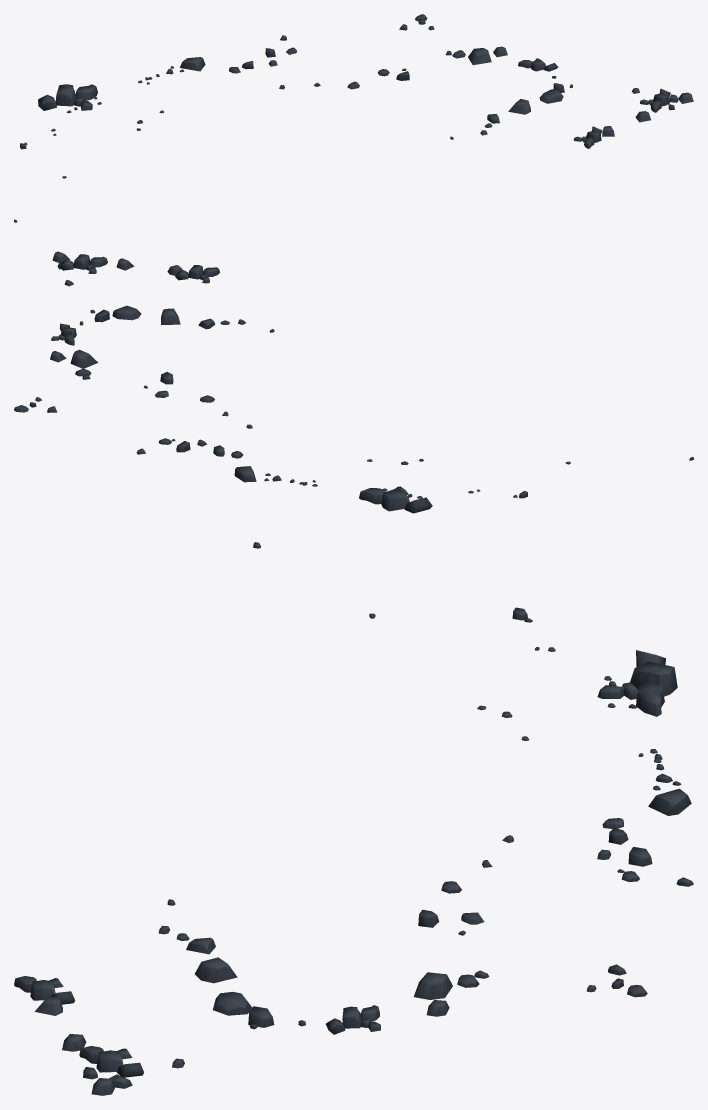
File: shitou01.fbx
3 renders of one model, top to bottom at view 1: azimuth 30°, elevation 25°; view 2: azimuth 150°, elevation 25°; view 3: azimuth 270°, elevation 25°, orthographic. The views are drawn at different scales.
Parts seen in each view (by area): view 1: shitou01; view 2: shitou01; view 3: shitou01.
Part boxes in pixels (left/top/right/bottom): shitou01: left=14, top=14, right=693, bottom=222; shitou01: left=14, top=251, right=693, bottom=513; shitou01: left=14, top=542, right=693, bottom=1095.
Size of the model in its own units: 14063 by 298 by 7343.
